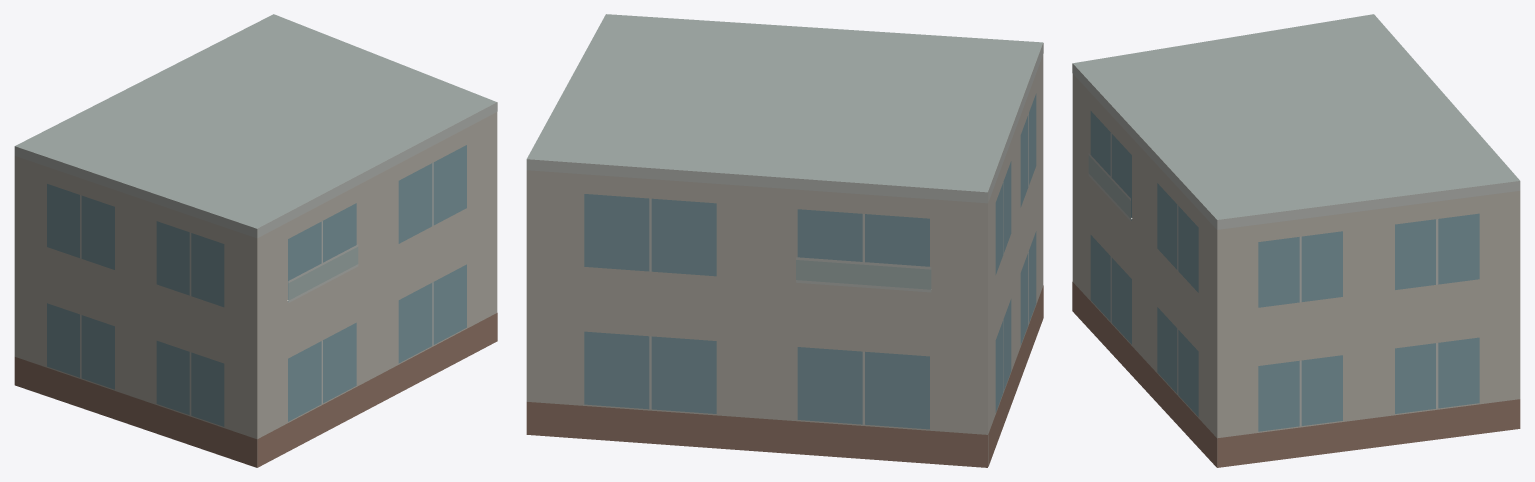
File: survey-upis-32884038.glb
3 renders of one model, left to right at view 1: azimuth 30°, elevation 25°; view 2: azimuth 150°, elevation 25°; view 3: azimuth 270°, elevation 25°, orthographic. The views are drawn at different scales.
Parts seen in each view (by area): view 1: survey-upis-32884038.tmp; view 2: survey-upis-32884038.tmp; view 3: survey-upis-32884038.tmp.
Part boxes in pixels (<box>): survey-upis-32884038.tmp: <box>14,14,497,467</box>; survey-upis-32884038.tmp: <box>526,14,1043,467</box>; survey-upis-32884038.tmp: <box>1072,14,1520,467</box>.
Bounding box in the file's own units: 10.88 × 6.1 × 10.
